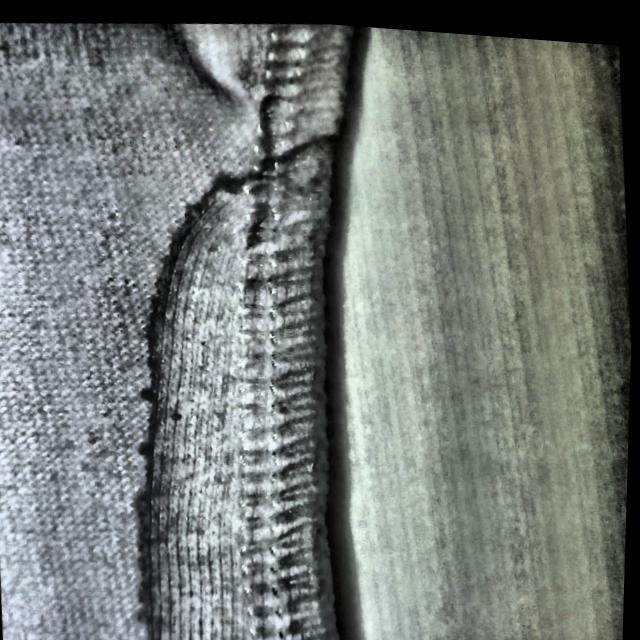seam: (30, 157, 375, 640)
